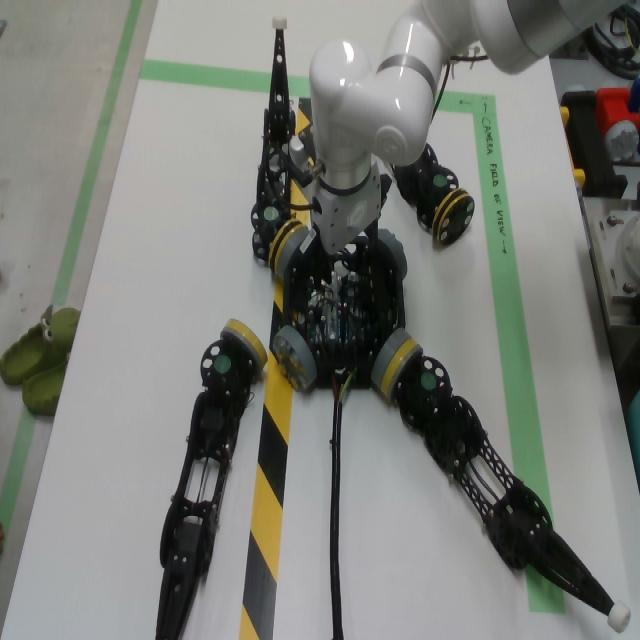body: (283, 236, 405, 389)
body_connector: (273, 325, 317, 391), (371, 328, 412, 388), (275, 225, 310, 281), (377, 229, 408, 280)
gripper: (295, 155, 391, 285)
leg: (382, 339, 633, 633), (154, 319, 268, 640), (250, 13, 302, 273), (389, 144, 476, 247)
leg_connector: (381, 339, 424, 404), (220, 319, 268, 371), (432, 188, 475, 245), (269, 217, 305, 275)
leg_marker: (214, 355, 231, 373), (421, 373, 436, 388), (264, 207, 278, 221), (433, 175, 447, 187)
